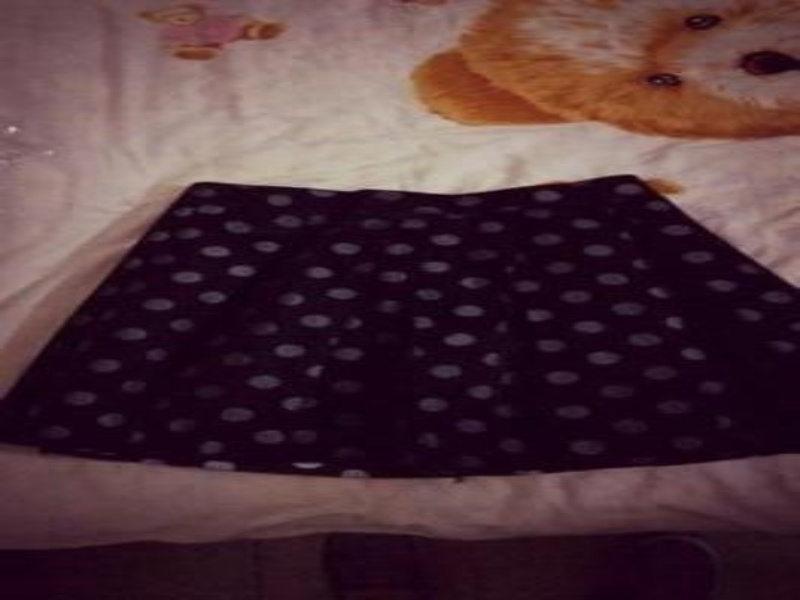skirt: (6, 172, 794, 496)
